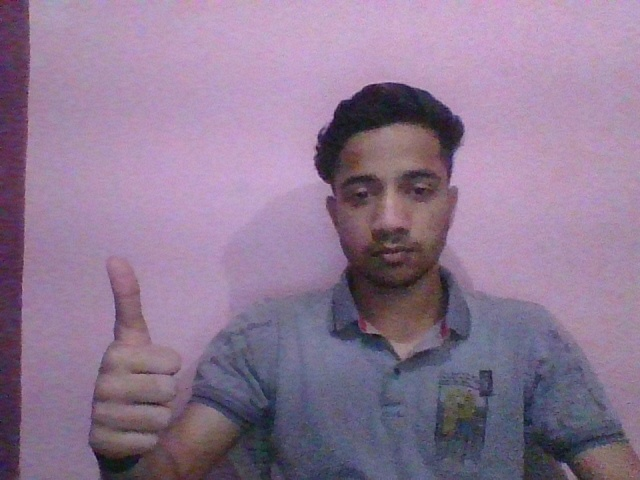thumbsup: (92, 255, 176, 457)
